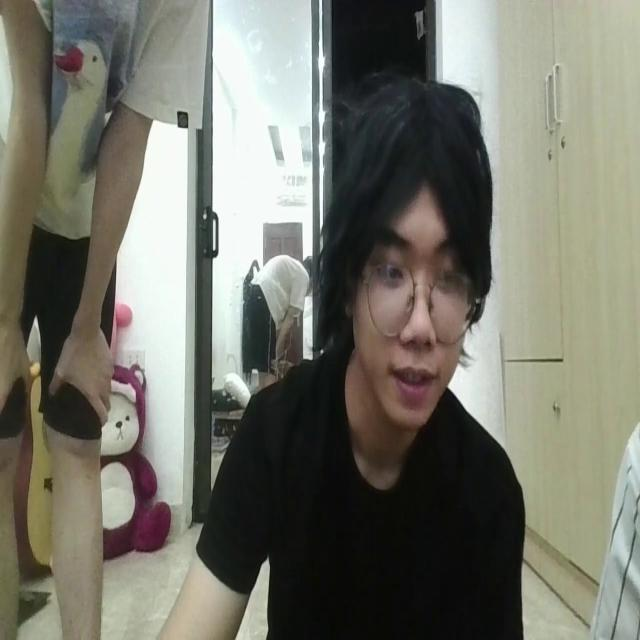extra_person: (0, 0, 192, 639)
student: (144, 77, 524, 640)
